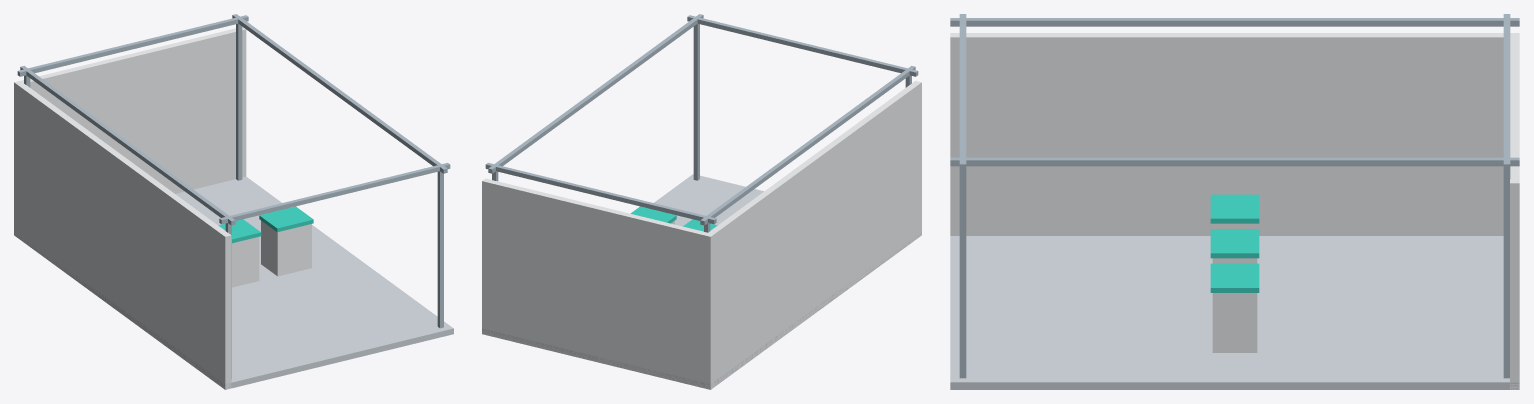
3 renders of one model, left to right at view 1: azimuth 30°, elevation 25°; view 2: azimuth 150°, elevation 25°; view 3: azimuth 270°, elevation 25°, orthographic. The views are drawn at different scales.
Visible parts, largest first — view 1: Exhibition Booth Concept; view 2: Exhibition Booth Concept; view 3: Exhibition Booth Concept.
Part boxes in pixels (x1,y1,x2,y2): Exhibition Booth Concept: [14, 14, 453, 389]; Exhibition Booth Concept: [482, 14, 921, 389]; Exhibition Booth Concept: [950, 14, 1519, 389].
Bounding box in the file's own units: 5 × 3.49 × 8.
